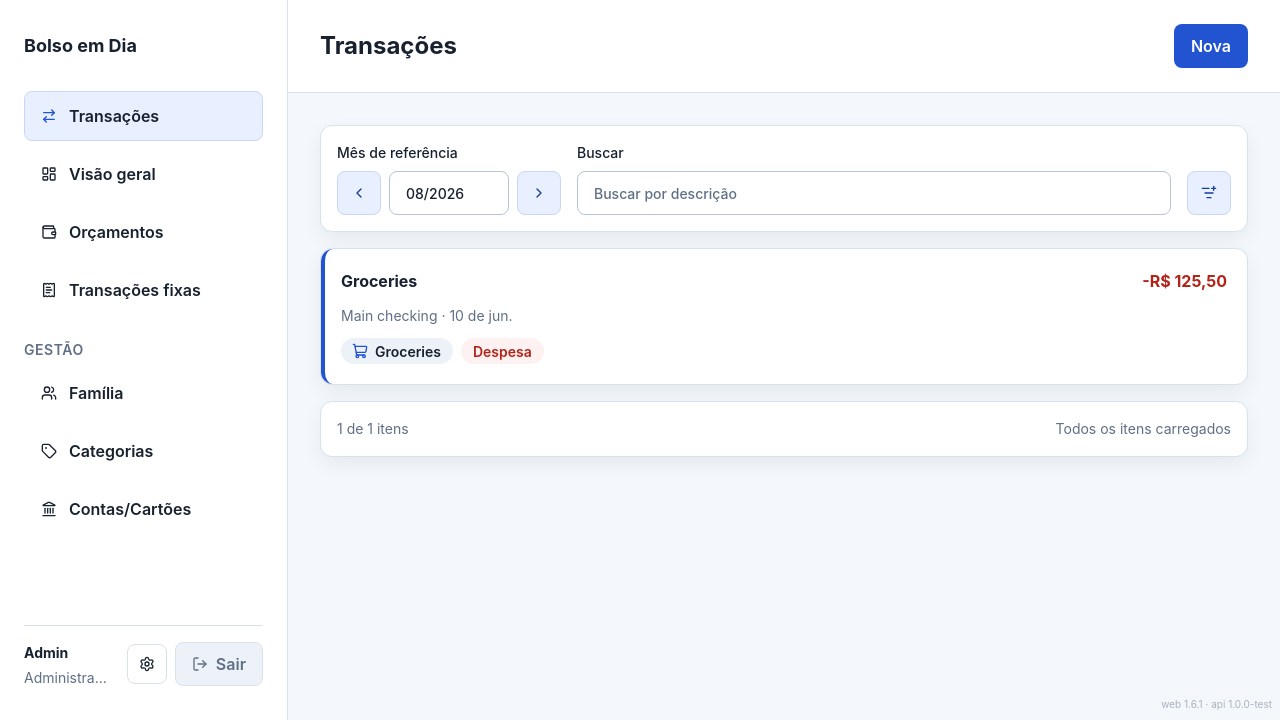
TransactionsPage › keeps the transaction type filter hidden until the extra filters panel opens
Check: the field labelled "Tipo" is not shown
Click the button named "Filtros": x=1209, y=193 [1187,171,1231,215]
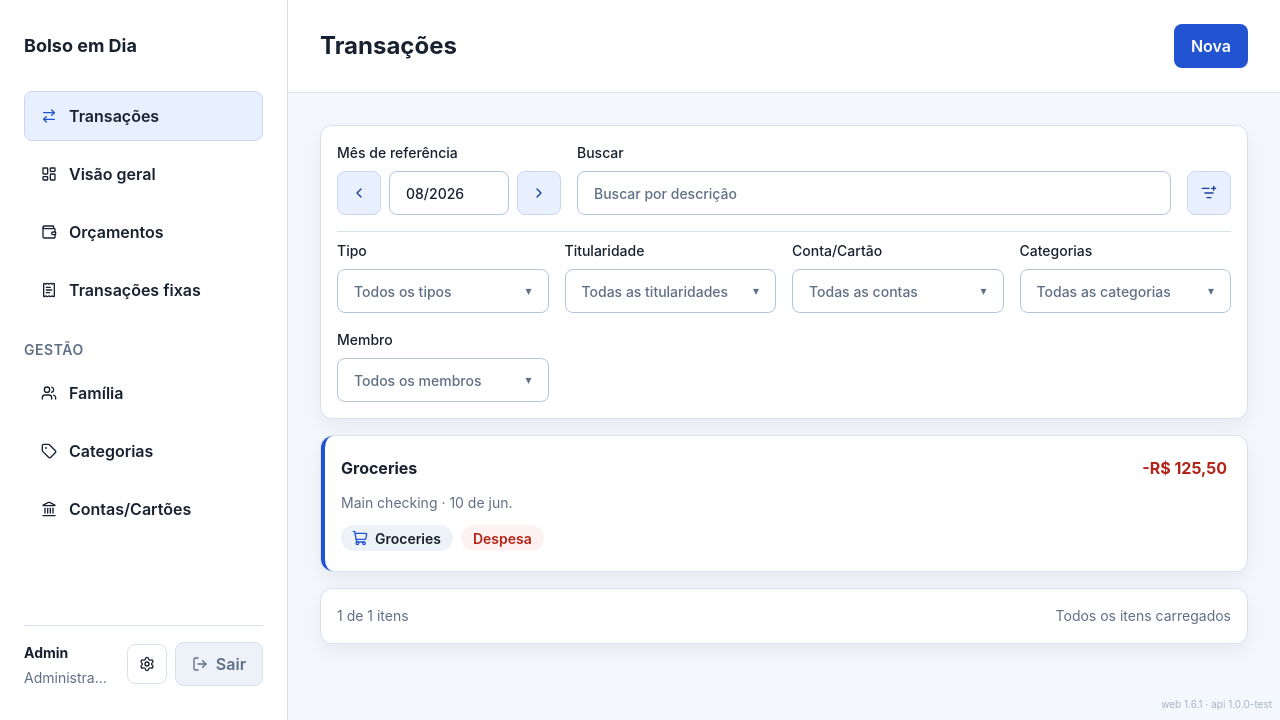
Check: the label labelled "Tipo" is shown, box [337,240,548,313]
